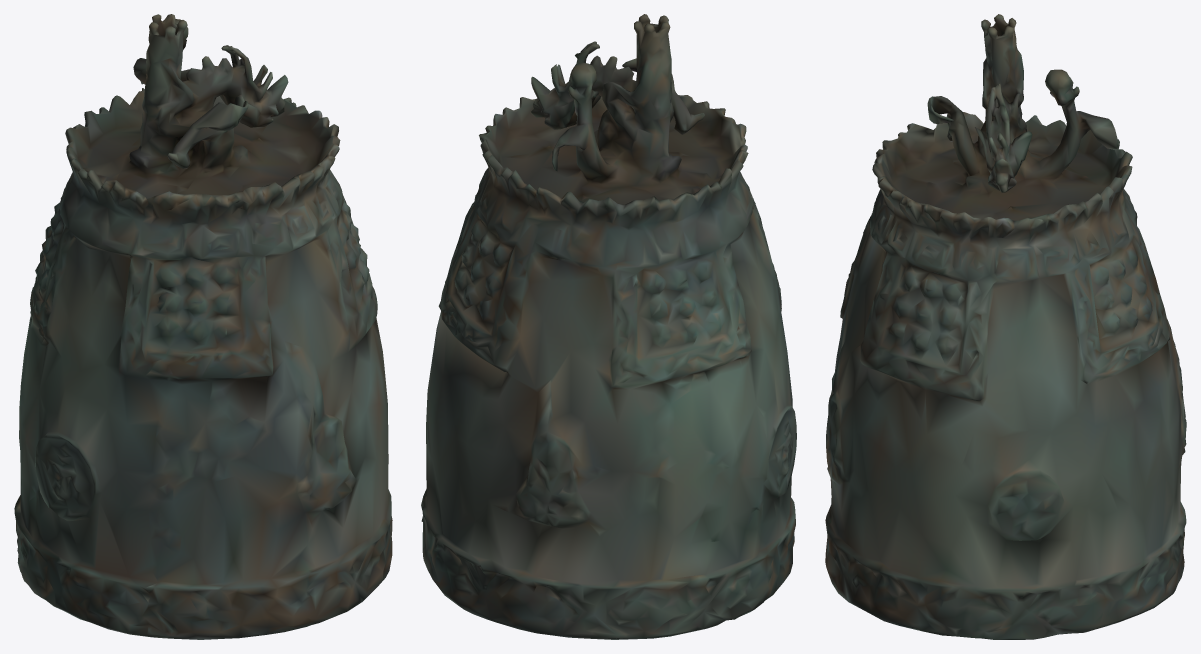
The model's file is belfry-bell.glb.
The picture shows the model from 3 angles, left to right: view 1: azimuth 30°, elevation 25°; view 2: azimuth 150°, elevation 25°; view 3: azimuth 270°, elevation 25°; orthographic projection. The views are drawn at different scales.
Parts seen in each view (by area): view 1: swing; view 2: swing; view 3: swing.
Boxes of the visible parts, left/top/right/bottom form: swing: left=14, top=14, right=392, bottom=639; swing: left=421, top=14, right=796, bottom=639; swing: left=825, top=14, right=1186, bottom=639.
Size of what is drawn, in the model's own units: 0.8342 by 1.35 by 0.8317.
